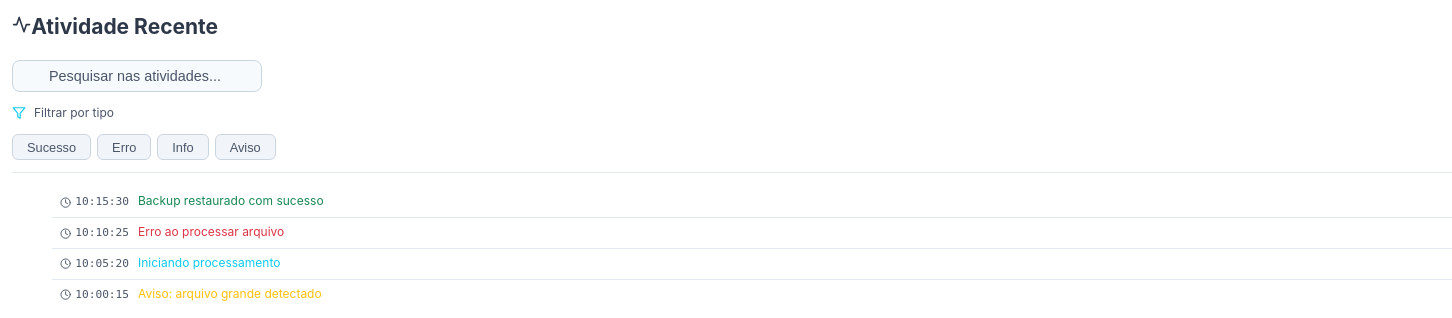
Test case: RecentActivityList Component › filtra atividades por texto corretamente
Encontrar o input de pesquisa e digitar "backup"
Type "backup" into the field with placeholder "Pesquisar nas atividades...". click: (137, 76)
box: [12, 60, 262, 92]
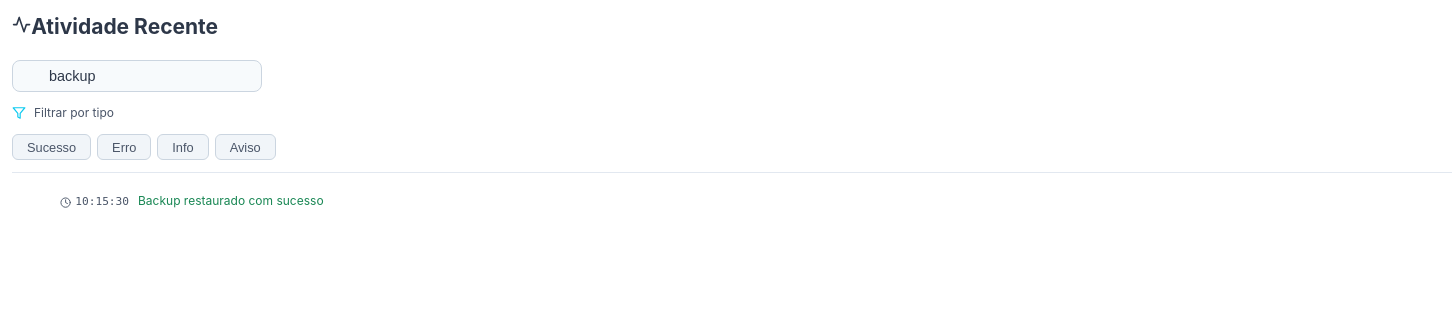
Expected: the text "Erro ao processar arquivo" is gone
Expected: the text "Iniciando processamento" is gone
Expected: the text "Aviso: arquivo grande detectado" is gone
